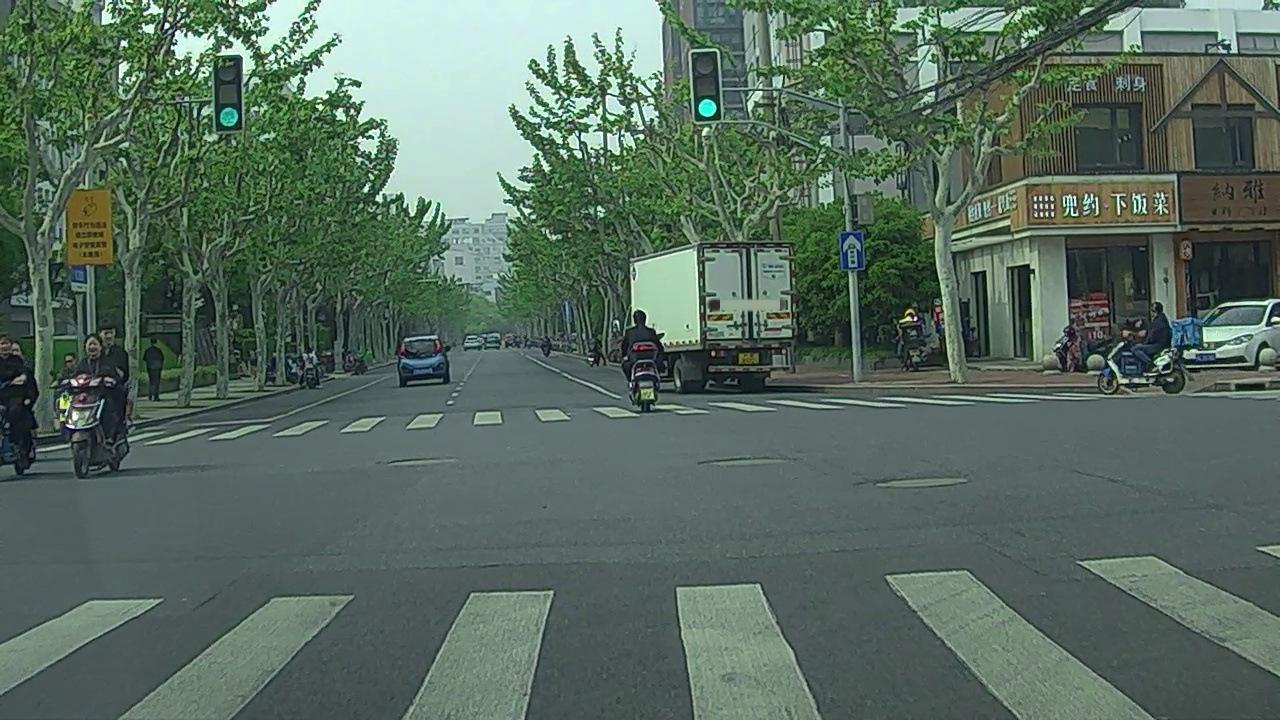traffic_light: (692, 51, 723, 122), (215, 55, 242, 131)
